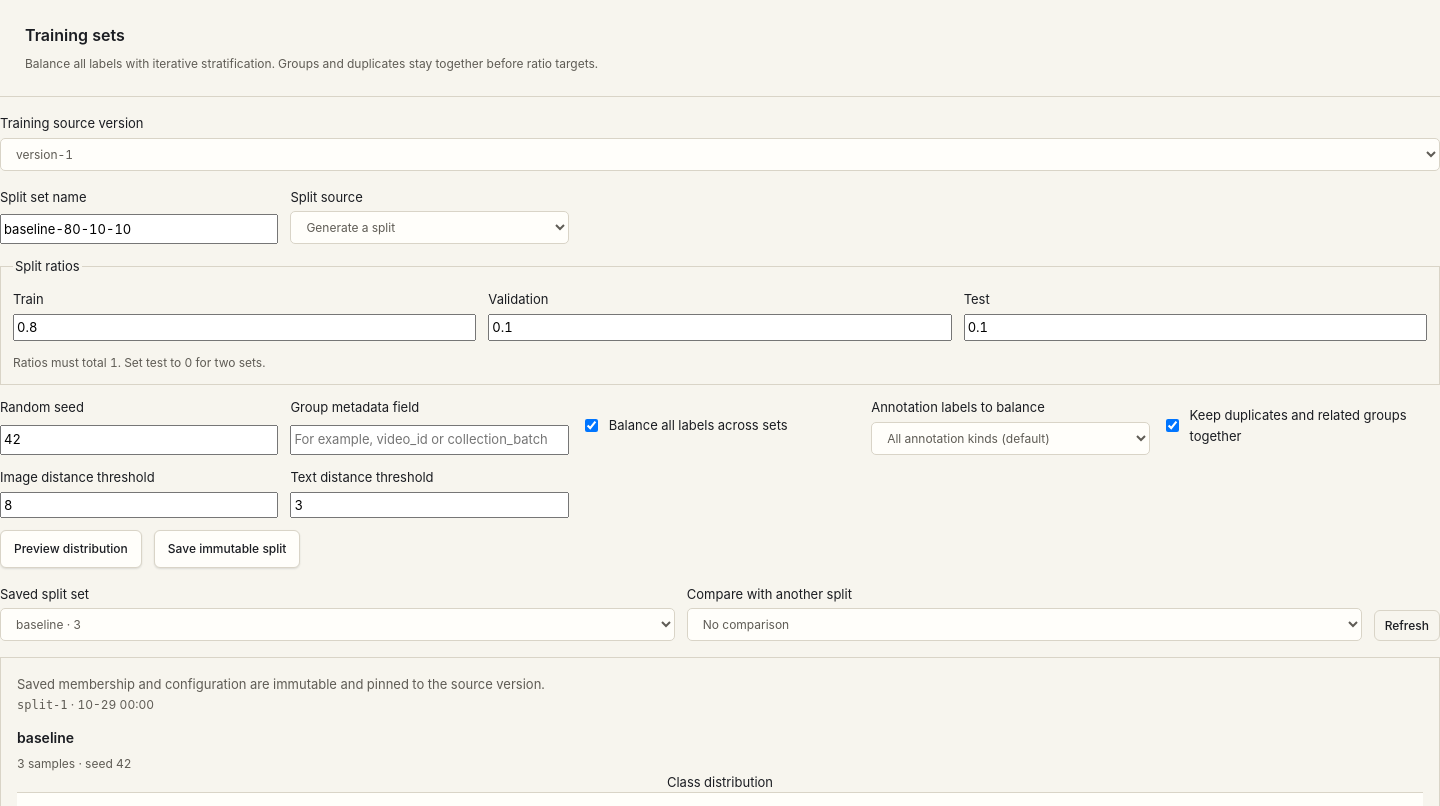
Test: compares saved class distribution and exposes zero counts in the chart
The width and height of the screenshot is (1440, 806).
Check: the heading "baseline" is shown, box [17,729,74,746]
Check: the dropdown labelled "Training source version" is shown, box [0,138,1439,171]
Select "seed-7" in the dropdown labelled "Compare with another split" at [1024, 625], box [687,608,1362,641]
(page scrolled)
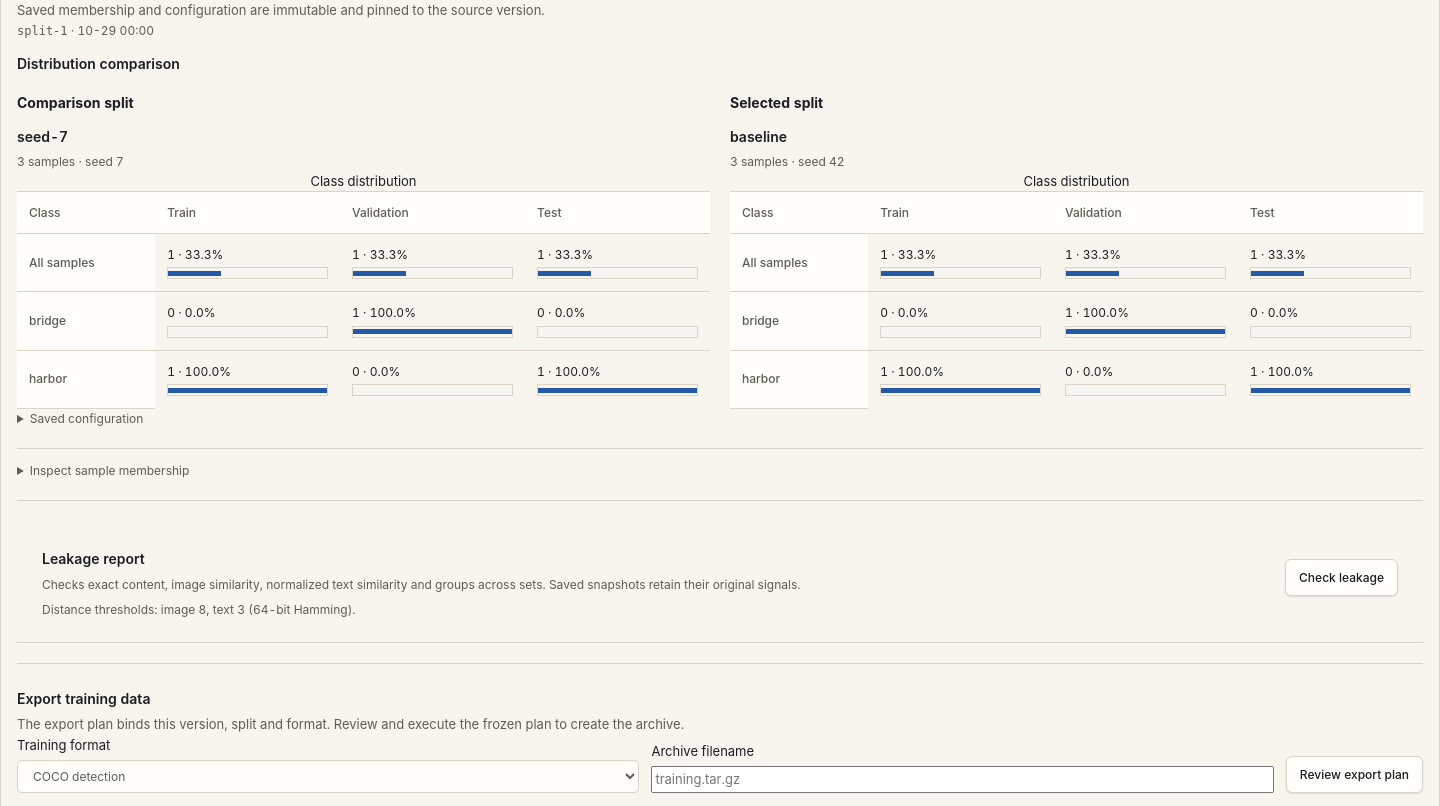
Check: the heading "Distribution comparison" is shown, box [17,55,180,72]
Click the heading "Inspect sample membership" at [110, 470], box [30,463,189,478]
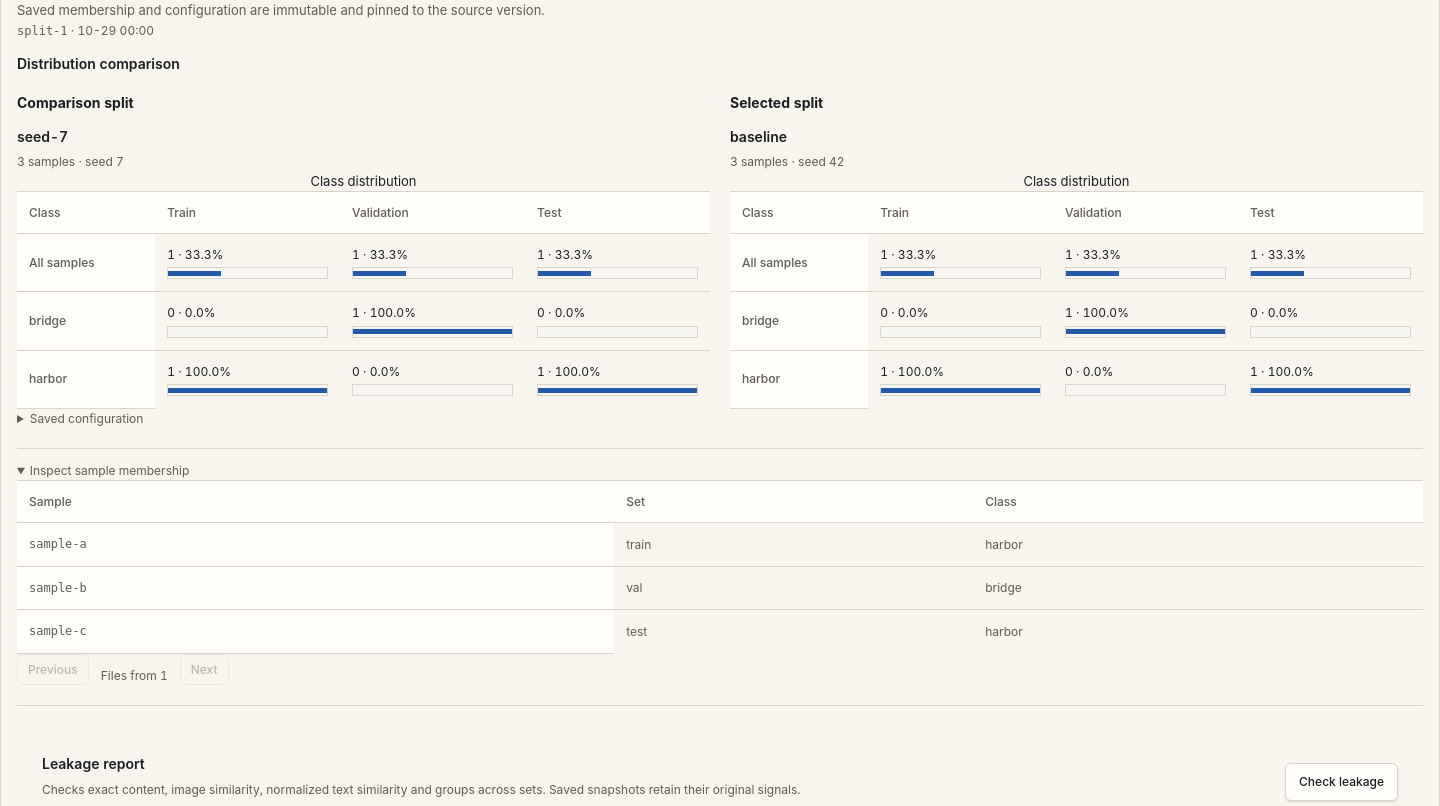
Check: the text "sample-c" is shown, box [29,624,87,638]
